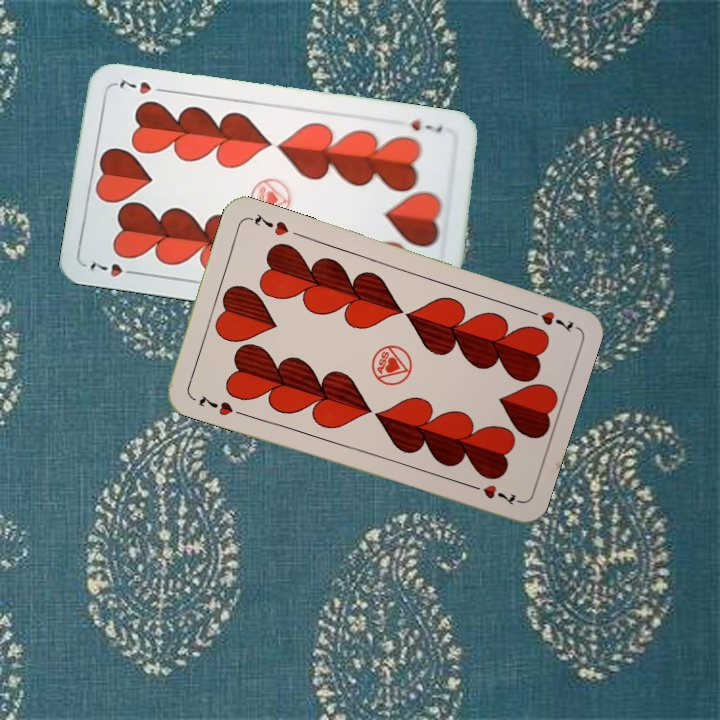H7: (521, 305, 576, 336), (84, 255, 142, 280), (195, 391, 236, 419), (406, 114, 445, 135)
